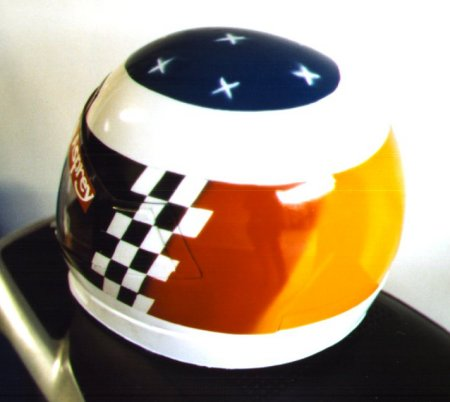helmet: (70, 37, 398, 357)
